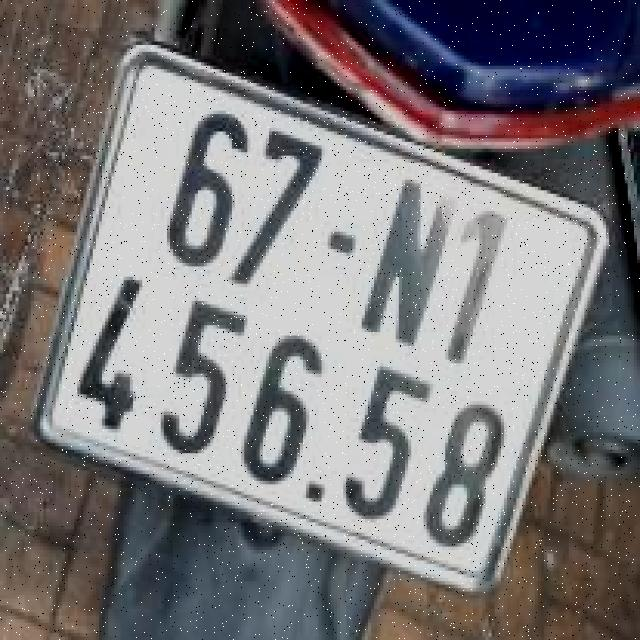1: (421, 188, 526, 387)
4: (60, 256, 174, 445)
5: (141, 285, 265, 474), (332, 351, 446, 541)
6: (223, 321, 345, 500), (149, 94, 262, 286)
7: (216, 117, 337, 305)
8: (411, 386, 519, 565)
N: (349, 157, 469, 366)
